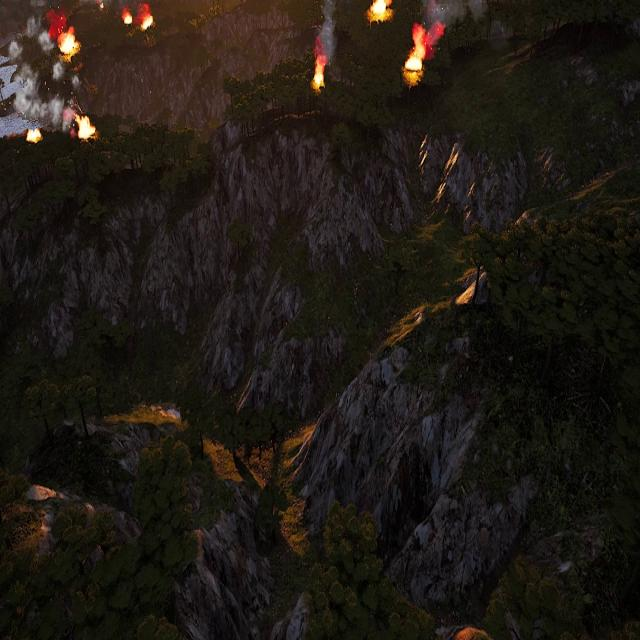fire: (404, 23, 440, 77), (123, 2, 155, 30), (58, 30, 78, 60), (370, 0, 392, 21), (76, 116, 95, 140), (313, 60, 326, 90), (25, 128, 43, 141), (100, 2, 104, 10)
smoke: (0, 0, 70, 130), (422, 0, 535, 47), (318, 1, 340, 66)
